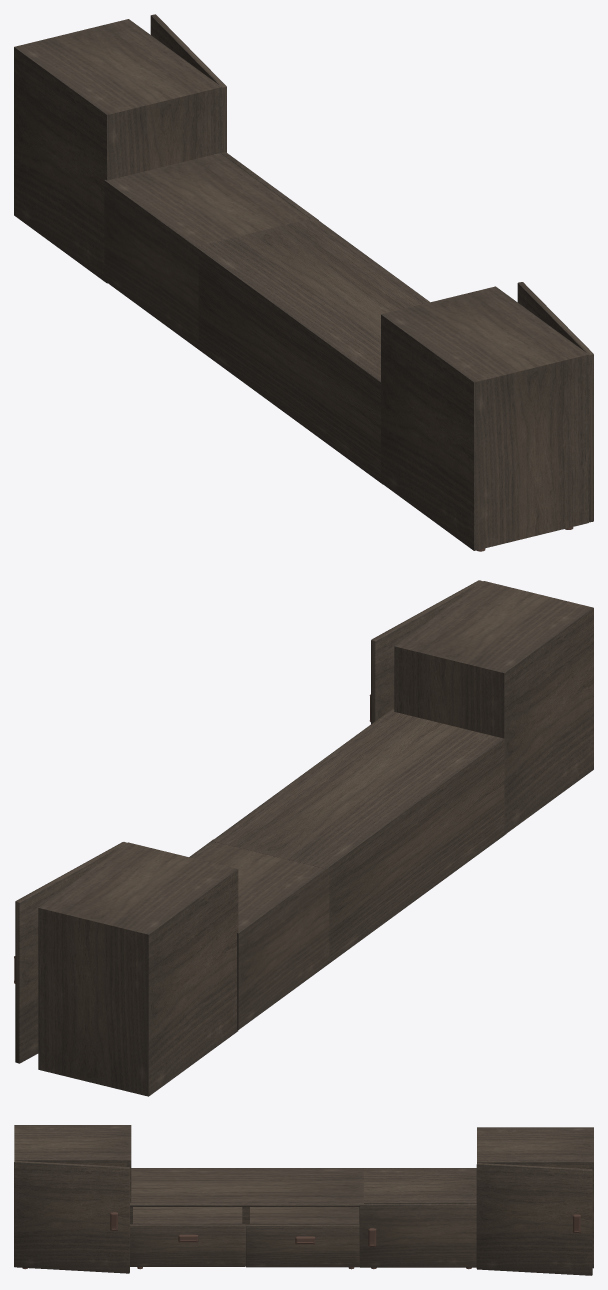
Rendered from tvStand.glb.
3 views of the same model, one above another, from view 1: azimuth 30°, elevation 25°; view 2: azimuth 150°, elevation 25°; view 3: azimuth 270°, elevation 25° (orthographic). The views are drawn at different scales.
Parts seen in each view (by area): view 1: Box005, Box003, Box005.001, Box004, Box009, Box009.001; view 2: Box005.001, Box003, Box005, Box004, Box009.001, Box009; view 3: Box003, Box009.001, Box009, Box010, Box011, Box012, Box005.001, Box005, Box004.
Part boxes in pixels (x1,y1,x2,y2): Box005: (381, 286, 588, 550); Box003: (196, 218, 429, 484); Box005.001: (14, 19, 221, 283); Box004: (104, 153, 309, 349); Box009: (517, 282, 593, 522); Box009.001: (150, 14, 226, 152); Box005.001: (38, 842, 238, 1096); Box003: (212, 709, 505, 963); Box005: (394, 581, 593, 834); Box004: (194, 842, 329, 1029); Box009.001: (15, 842, 126, 1063); Box009: (371, 580, 482, 723); Box003: (130, 1168, 363, 1224); Box009.001: (476, 1163, 592, 1275); Box009: (14, 1160, 129, 1273); Box010: (359, 1203, 476, 1267); Box011: (246, 1224, 359, 1267); Box012: (130, 1224, 245, 1266); Box005.001: (477, 1127, 593, 1268); Box005: (14, 1125, 131, 1202); Box004: (364, 1168, 476, 1203).
Bounding box in the file's own units: 0.5606 × 0.6194 × 2.93.
2 materials, 1 textured.
